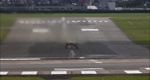maybay_muctieu: (59, 35, 83, 50)
